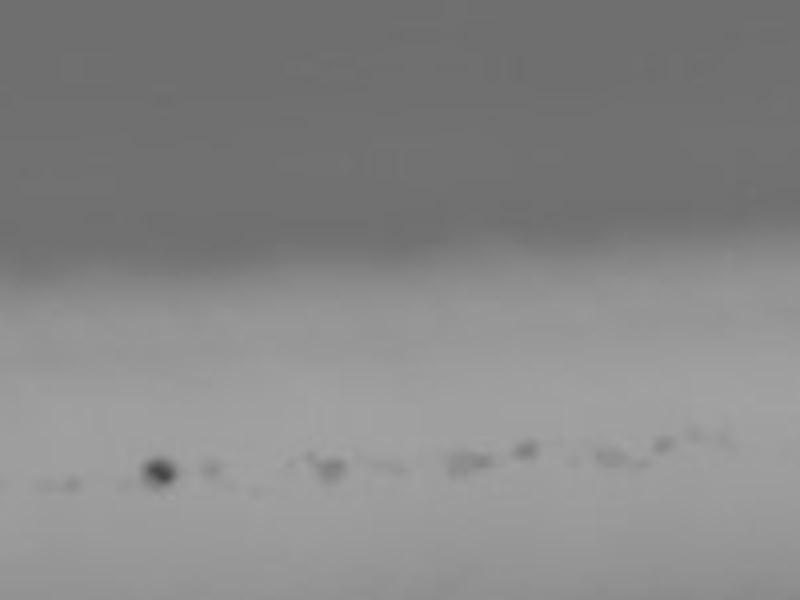defect: (451, 448, 492, 478), (140, 456, 177, 489), (316, 459, 346, 490), (593, 446, 631, 469), (651, 430, 677, 459), (514, 440, 541, 462), (197, 458, 222, 478), (65, 471, 82, 495), (246, 487, 269, 500), (634, 459, 653, 473), (302, 448, 318, 462)
